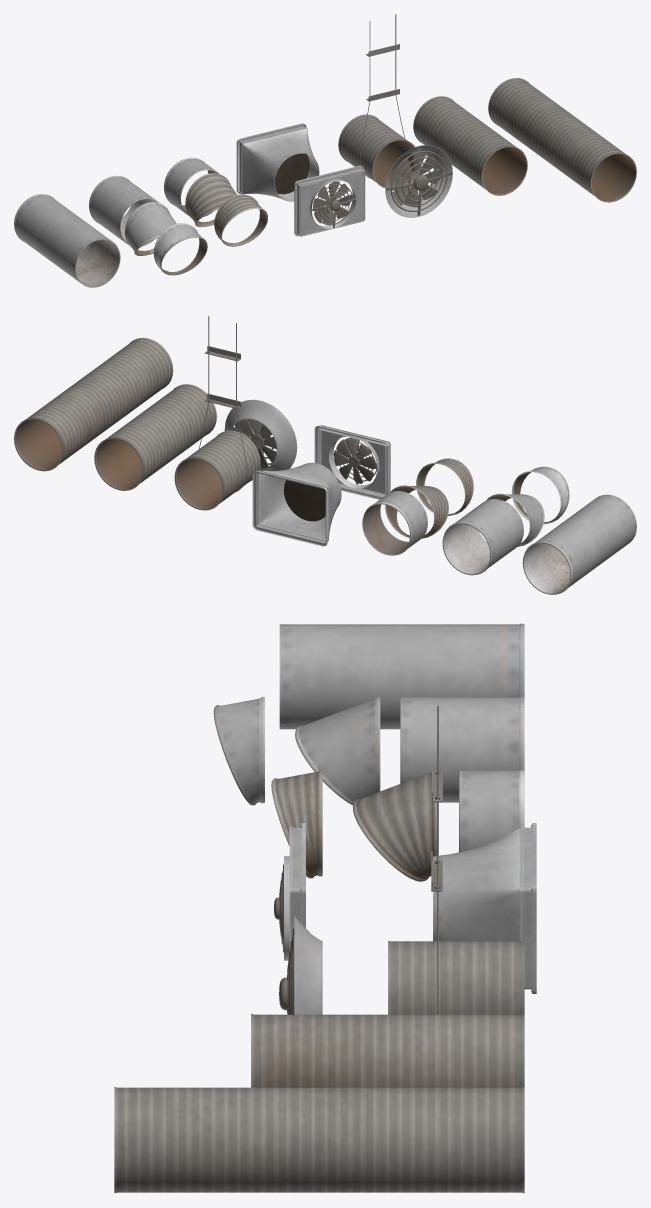
The model's file is modular_airduct_circular_01.glb.
3 views of the same model, one above another, from view 1: azimuth 30°, elevation 25°; view 2: azimuth 150°, elevation 25°; view 3: azimuth 270°, elevation 25° (orthographic). The views are drawn at different scales.
Visible parts, largest first — view 1: modular_airduct_circular_triple, modular_airduct_circular_double, modular_airduct_circular_smooth_triple, modular_airduct_rectangular_converter, modular_airduct_rectangular_vent_fan, modular_airduct_circular_fan, modular_airduct_circular_single, modular_airduct_circular_smooth_double, modular_airduct_circular_bend_half, modular_airduct_circular_smooth_bend_half, modular_airduct_circular_bend_quater, modular_airduct_circular_smooth_bend_quater (+1 smaller); view 2: modular_airduct_circular_triple, modular_airduct_circular_double, modular_airduct_circular_smooth_triple, modular_airduct_rectangular_converter, modular_airduct_circular_single, modular_airduct_circular_smooth_double, modular_airduct_rectangular_vent_fan, modular_airduct_circular_fan, modular_airduct_circular_smooth_single, modular_airduct_circular_bend_half, modular_airduct_circular_bend_quater, modular_airduct_circular_smooth_bend_quater (+2 smaller); view 3: modular_airduct_circular_triple, modular_airduct_circular_smooth_triple, modular_airduct_circular_double, modular_airduct_rectangular_converter, modular_airduct_circular_single, modular_airduct_circular_smooth_double, modular_airduct_circular_smooth_bend_half, modular_airduct_circular_bend_half, modular_airduct_circular_smooth_single, modular_airduct_circular_smooth_bend_quater, modular_airduct_circular_bend_quater, modular_airduct_circular_fan (+1 smaller).
Boxes of the visible parts, x1,y1,x2,y2 form: modular_airduct_circular_triple: (488, 78, 636, 202); modular_airduct_circular_double: (413, 96, 527, 195); modular_airduct_circular_smooth_triple: (14, 194, 120, 287); modular_airduct_rectangular_converter: (236, 123, 319, 201); modular_airduct_rectangular_vent_fan: (294, 165, 365, 236); modular_airduct_circular_fan: (385, 145, 452, 217); modular_airduct_circular_single: (338, 114, 414, 187); modular_airduct_circular_smooth_double: (89, 175, 158, 246); modular_airduct_circular_bend_half: (185, 173, 236, 227); modular_airduct_circular_smooth_bend_half: (125, 202, 176, 255); modular_airduct_circular_bend_quater: (214, 194, 267, 246); modular_airduct_circular_smooth_bend_quater: (153, 223, 207, 275); modular_airduct_circular_triple: (14, 337, 173, 471); modular_airduct_circular_double: (94, 384, 216, 490); modular_airduct_circular_smooth_triple: (522, 494, 636, 594); modular_airduct_rectangular_converter: (252, 462, 341, 546); modular_airduct_circular_single: (174, 430, 260, 510); modular_airduct_circular_smooth_double: (442, 499, 523, 575); modular_airduct_rectangular_vent_fan: (314, 425, 390, 499); modular_airduct_circular_fan: (224, 399, 297, 470); modular_airduct_circular_smooth_single: (362, 491, 427, 555); modular_airduct_circular_bend_half: (385, 485, 448, 538); modular_airduct_circular_bend_quater: (416, 458, 473, 515); modular_airduct_circular_smooth_bend_quater: (511, 466, 569, 524); modular_airduct_circular_triple: (114, 1087, 524, 1193); modular_airduct_circular_smooth_triple: (279, 623, 524, 729); modular_airduct_circular_double: (251, 1013, 524, 1087); modular_airduct_rectangular_converter: (433, 823, 536, 993); modular_airduct_circular_single: (388, 940, 524, 1014); modular_airduct_circular_smooth_double: (400, 696, 524, 802); modular_airduct_circular_smooth_bend_half: (295, 696, 380, 805); modular_airduct_circular_bend_half: (353, 769, 437, 881); modular_airduct_circular_smooth_single: (459, 770, 524, 852); modular_airduct_circular_smooth_bend_quater: (213, 696, 264, 805); modular_airduct_circular_bend_quater: (271, 769, 322, 878); modular_airduct_circular_fan: (279, 916, 322, 1014).
Bounding box in the file's own units: 4.17 × 1.32 × 1.46.
2 materials, 2 textured.
